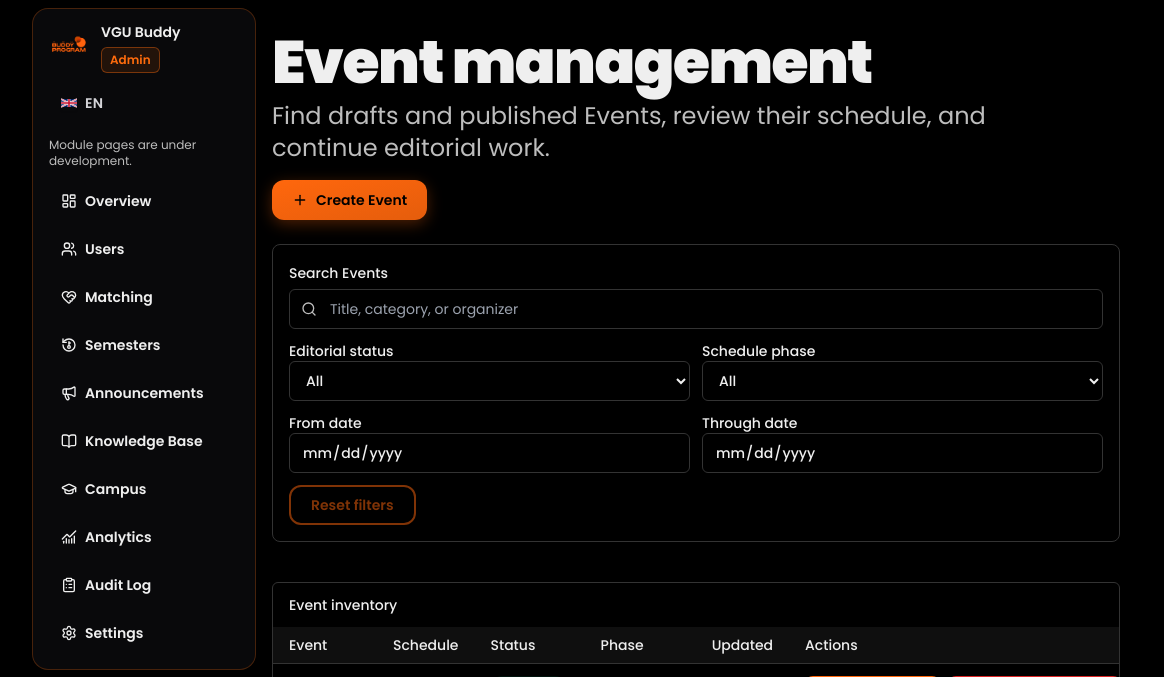
ADMIN-006 guarded Admin Event inventory › uses removable private cache and switches the page to German
This screenshot has width=1164, height=677.
Click the button with aria-label "Switch to German". click: coordinates (82, 103)
box: [49,85,116,121]
(page scrolled)
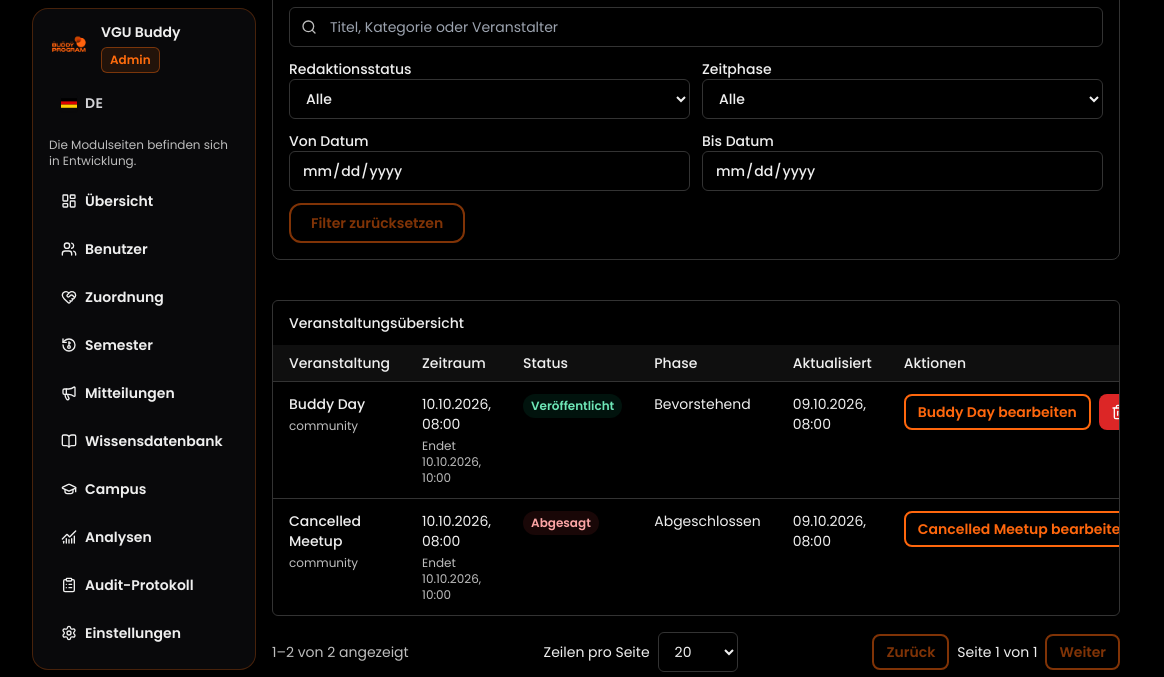
expect the table "Veranstaltungsübersicht" is shown: met, box [273,301,1120,615]
